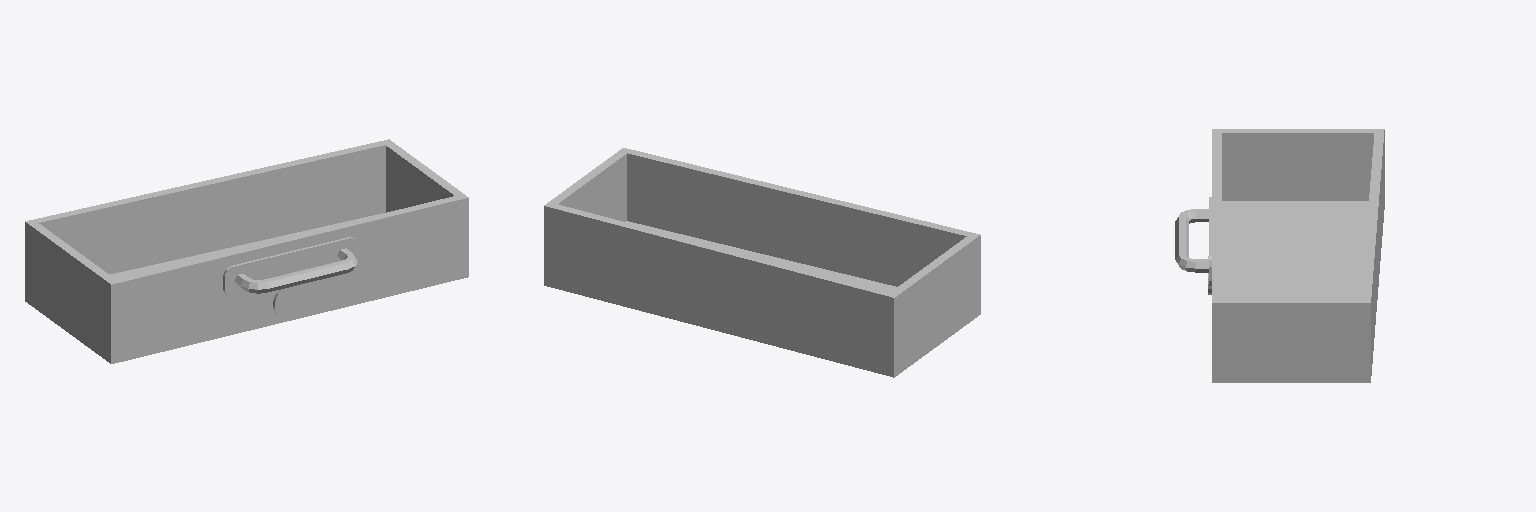
File: Gimmick_Drawer01_Flower.obj
3 views of the same model, side by side, from view 1: azimuth 30°, elevation 25°; view 2: azimuth 150°, elevation 25°; view 3: azimuth 270°, elevation 25° (orthographic).
Visible parts, largest first — view 1: Gimmick_Drawer01_Flower Gimmick; view 2: Gimmick_Drawer01_Flower Gimmick; view 3: Gimmick_Drawer01_Flower Gimmick.
Part boxes in pixels (x1,y1,x2,y2): Gimmick_Drawer01_Flower Gimmick: (25, 139, 468, 363); Gimmick_Drawer01_Flower Gimmick: (544, 148, 980, 377); Gimmick_Drawer01_Flower Gimmick: (1175, 129, 1384, 382).
Size of the model in its own units: 61 by 13 by 30.91.